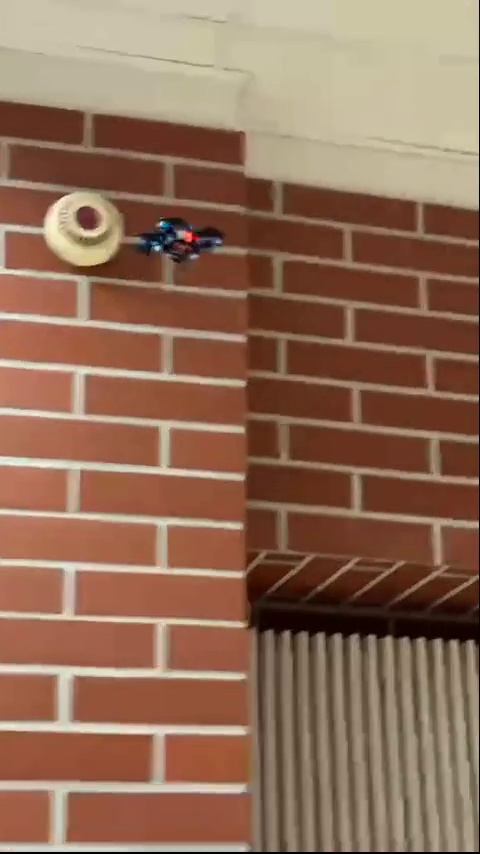drone: (138, 213, 233, 268)
